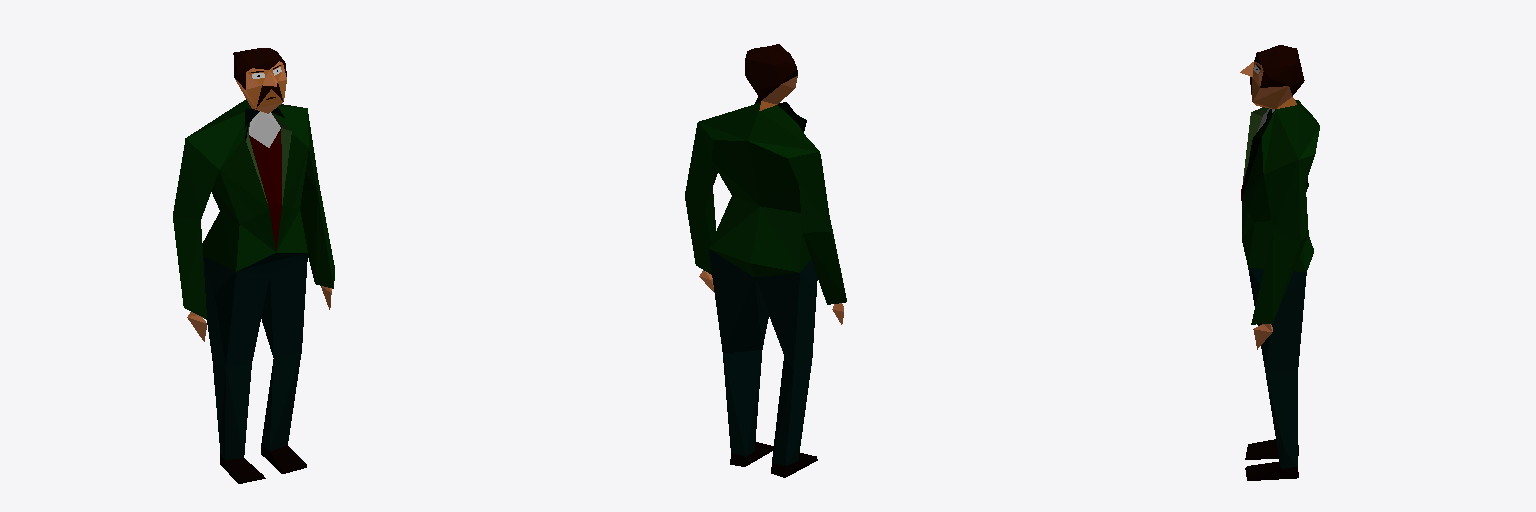
Rendered from Cripple.obj.
The picture shows the model from 3 angles: view 1: azimuth 30°, elevation 25°; view 2: azimuth 150°, elevation 25°; view 3: azimuth 270°, elevation 25°; orthographic projection.
Parts seen in each view (by area): view 1: Dummy; view 2: Dummy; view 3: Dummy.
Part boxes in pixels (x1,y1,x2,y2): Dummy: (173, 48, 334, 483); Dummy: (685, 44, 846, 477); Dummy: (1240, 45, 1319, 480).
Size of the model in its own units: 3.82 by 10.05 by 1.76.